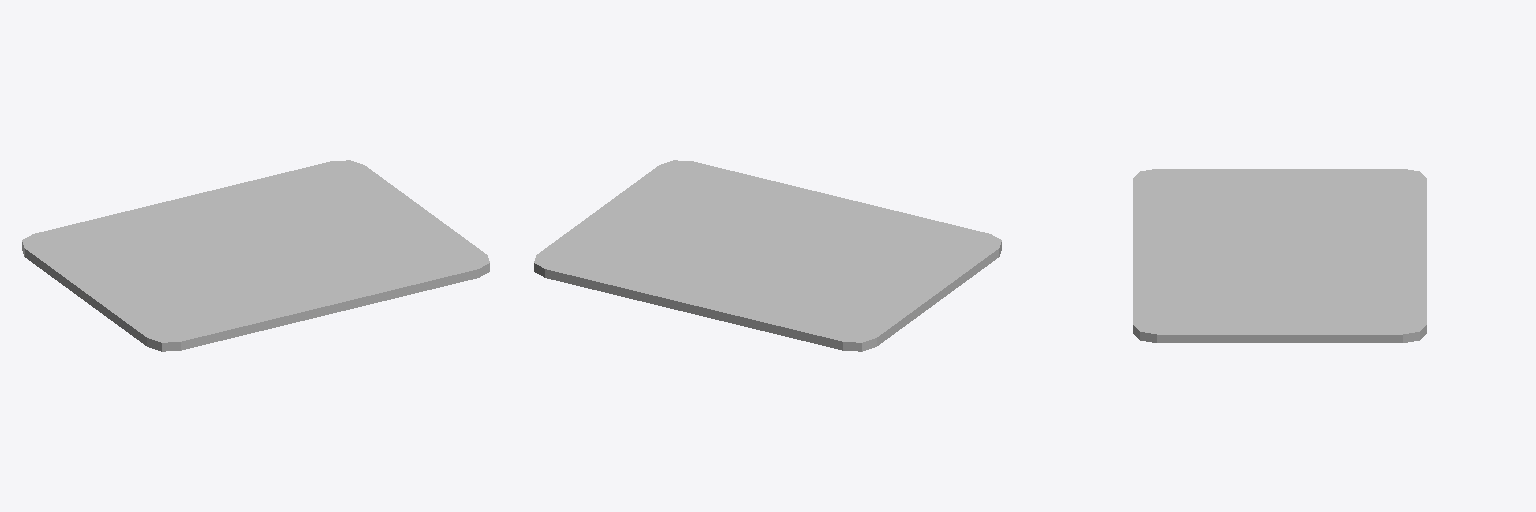
Rendered from mousepad_B.obj.
3 renders of one model, left to right at view 1: azimuth 30°, elevation 25°; view 2: azimuth 150°, elevation 25°; view 3: azimuth 270°, elevation 25°, orthographic.
Visible parts, largest first — view 1: mousepad_B_Cube.18242; view 2: mousepad_B_Cube.18242; view 3: mousepad_B_Cube.18242.
Part boxes in pixels (x1,y1,x2,y2): mousepad_B_Cube.18242: (22, 160, 489, 351); mousepad_B_Cube.18242: (534, 160, 1001, 351); mousepad_B_Cube.18242: (1133, 169, 1426, 342).
Bounding box in the file's own units: 0.8 × 0.02 × 0.6.